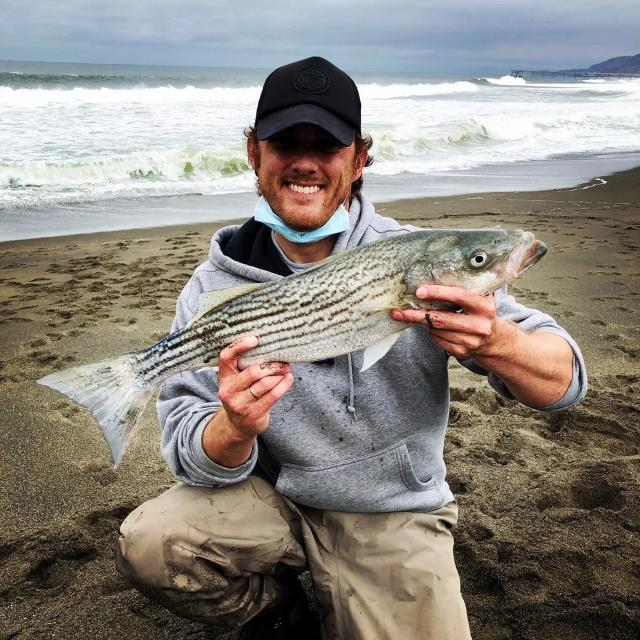Bass - Striped: (37, 228, 546, 466)
